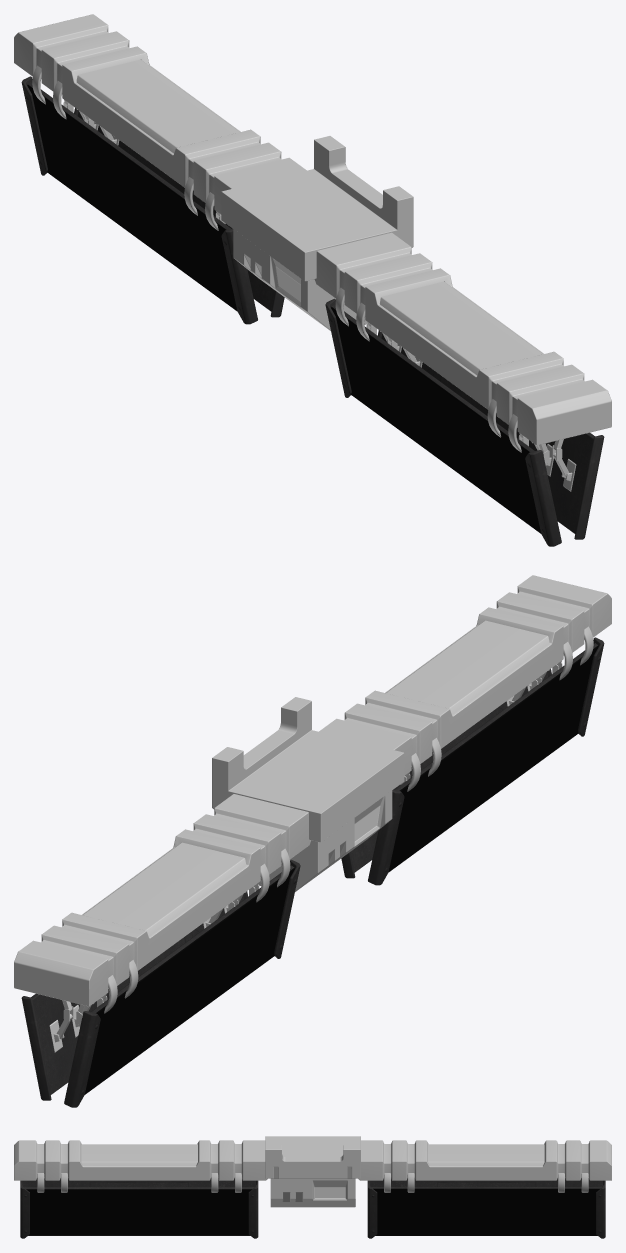
Rendered from Screen_8.fbx.
The picture shows the model from 3 angles, top to bottom: view 1: azimuth 30°, elevation 25°; view 2: azimuth 150°, elevation 25°; view 3: azimuth 270°, elevation 25°; orthographic projection. The views are drawn at different scales.
Visible parts, largest first — view 1: Cube.002, Cube.032, Cube.001, Cube.033, Cube.003; view 2: Cube.002, Cube.001, Cube.032, Cube.003, Cube.033; view 3: Cube.002, Cube.003, Cube.033, Cube.001, Cube.032.
Part boxes in pixels (x1,y1,x2,y2): Cube.002: (14,14,611,491); Cube.032: (325,298,561,546); Cube.001: (21,76,257,324); Cube.033: (377,330,604,539); Cube.003: (74,108,284,317); Cube.002: (14,575,611,1052); Cube.001: (64,859,300,1107); Cube.032: (368,637,604,885); Cube.003: (21,891,248,1100); Cube.033: (341,669,551,878); Cube.002: (14,1136,611,1207); Cube.003: (367,1184,605,1238); Cube.033: (20,1184,258,1238); Cube.001: (367,1178,605,1186); Cube.032: (20,1178,258,1186).
Size of the model in its own units: 117 by 181 by 972.
